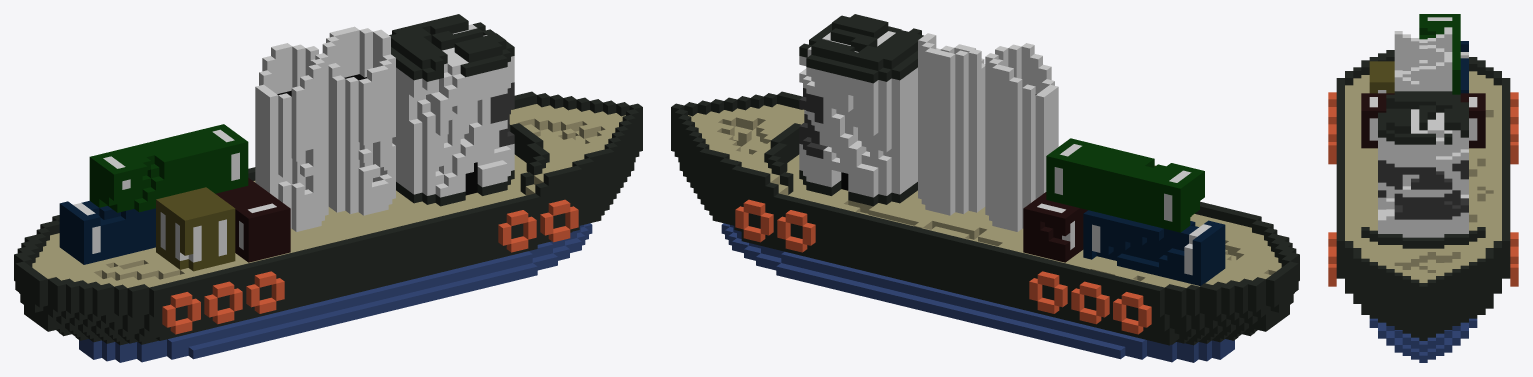
Rendered from cargo ship(보스).obj.
The picture shows the model from 3 angles, left to right: view 1: azimuth 30°, elevation 25°; view 2: azimuth 150°, elevation 25°; view 3: azimuth 270°, elevation 25°; orthographic projection. The views are drawn at different scales.
Size of the model in its own units: 7.3 by 2.8 by 2.3.
